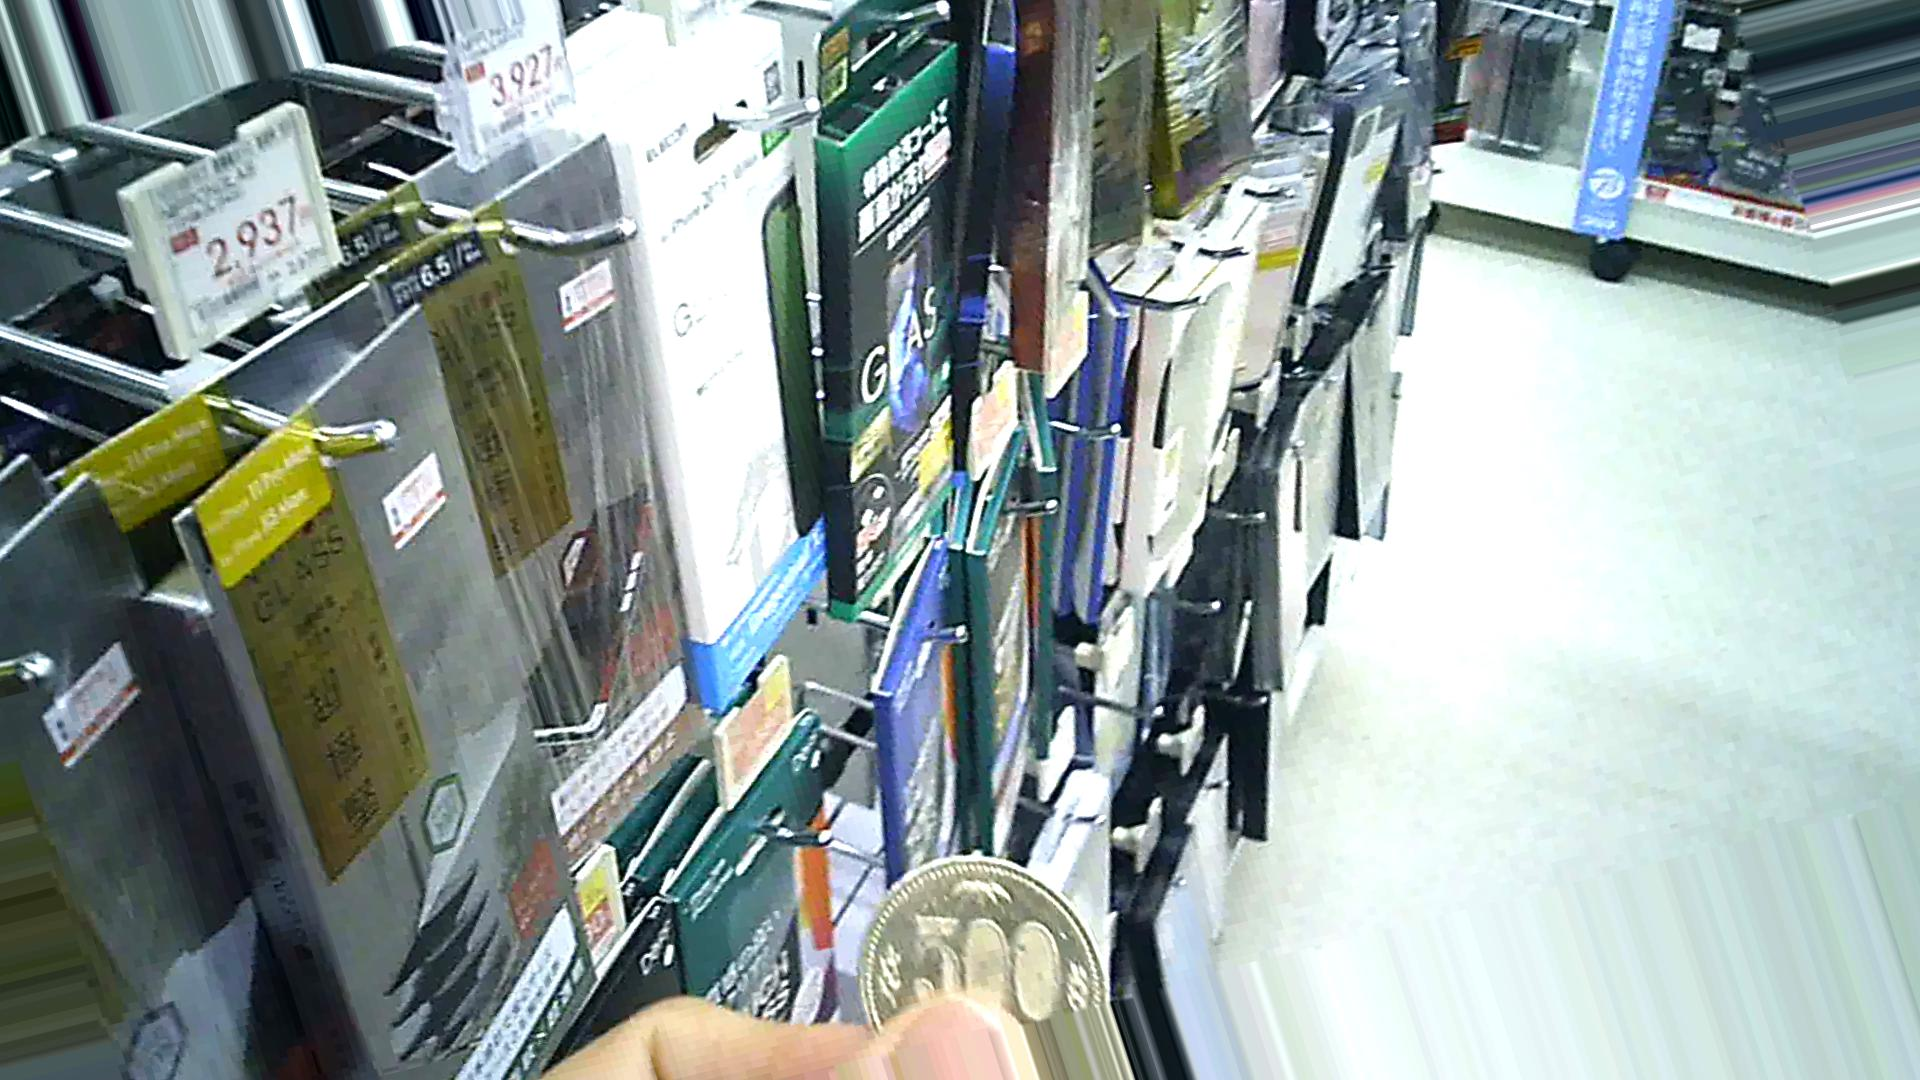500 Yen: (815, 853, 1120, 1034)
